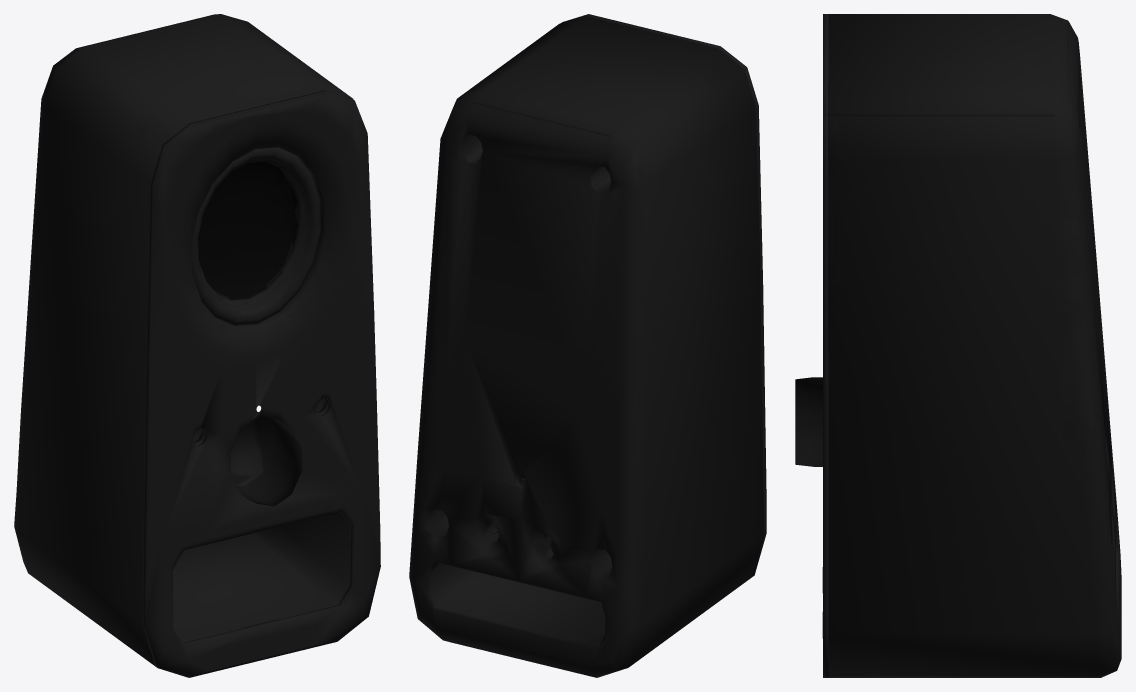
The model's file is spk-logitech-z407_lod1.glb.
3 views of the same model, side by side, from view 1: azimuth 30°, elevation 25°; view 2: azimuth 150°, elevation 25°; view 3: azimuth 270°, elevation 25° (orthographic). The views are drawn at different scales.
Visible parts, largest first — view 1: body; view 2: body; view 3: body.
Boxes of the visible parts, box(x1,y1,x2,y2) form: body: box(14, 14, 380, 677); body: box(409, 14, 766, 677); body: box(795, 14, 1121, 677).
Bounding box in the file's own units: 0.08 × 0.179 × 0.09.
5 materials, 4 textured.
